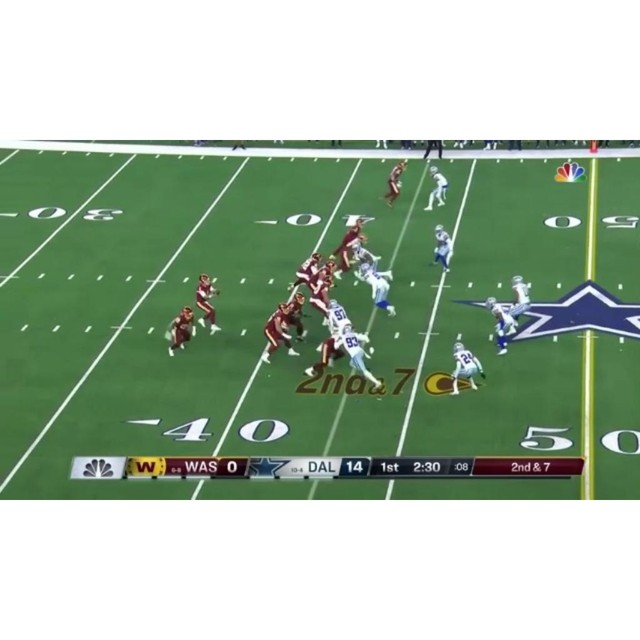american-football-player: (341, 324, 382, 392), (356, 262, 398, 318), (262, 304, 300, 363), (331, 220, 368, 279), (303, 332, 347, 376), (485, 296, 517, 355), (450, 342, 485, 395), (194, 274, 222, 335), (350, 242, 392, 282), (166, 306, 195, 358), (507, 274, 532, 330), (380, 159, 408, 209), (288, 253, 322, 294), (307, 274, 334, 324), (284, 292, 308, 343), (429, 224, 454, 272), (424, 165, 450, 211), (326, 299, 353, 336), (311, 258, 337, 287)
